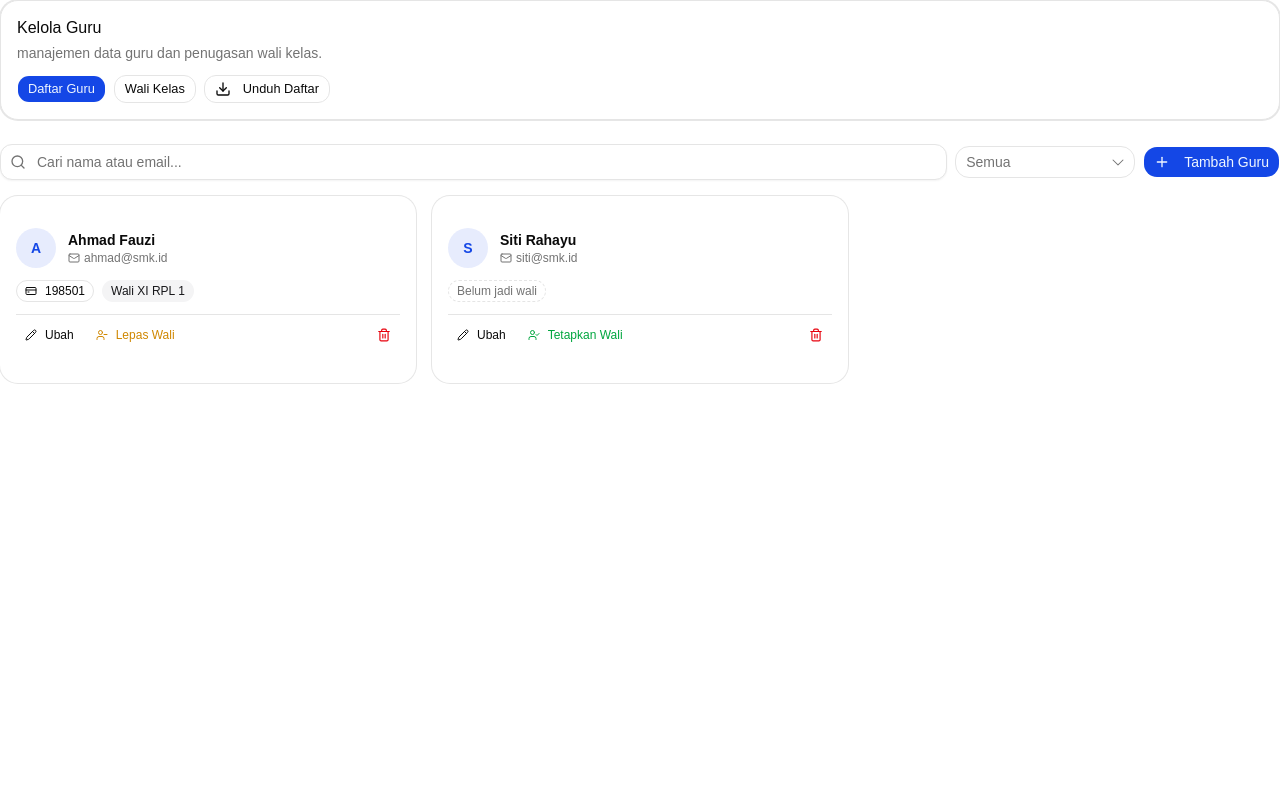
Test: KelolaGuruSection › edit button opens dialog with pre-filled nama/email/nip
Check: the heading "Ahmad Fauzi" is shown, box [68,230,168,250]
Click the button titled "Edit" below "198501".
click(49, 335)  # box [16,319,83,351]
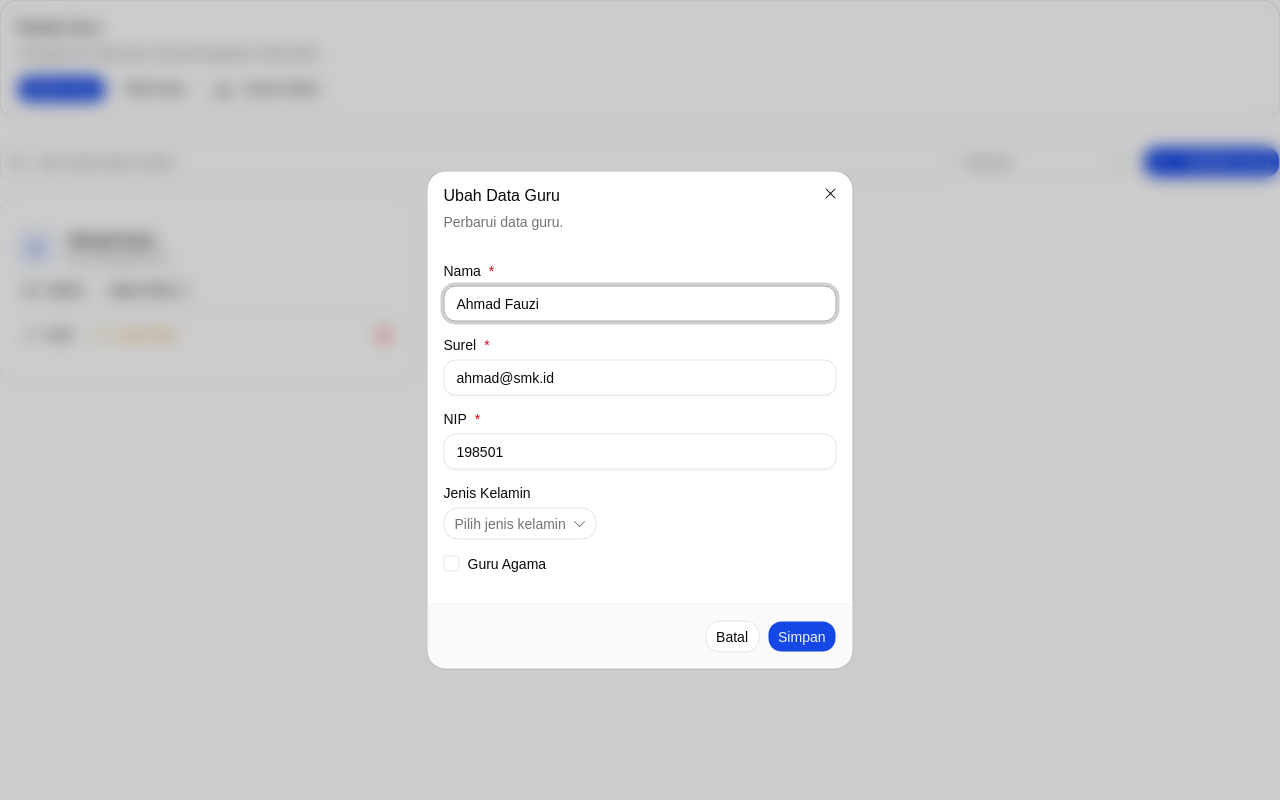
Check: the text "Perbarui data guru." is shown, box [444,214,563,230]
Check: the field showing "Ahmad Fauzi" below "Nama" is shown, box [444,286,836,322]
Check: the field showing "ahmad@smk.id" below "Surel" is shown, box [444,360,836,396]
